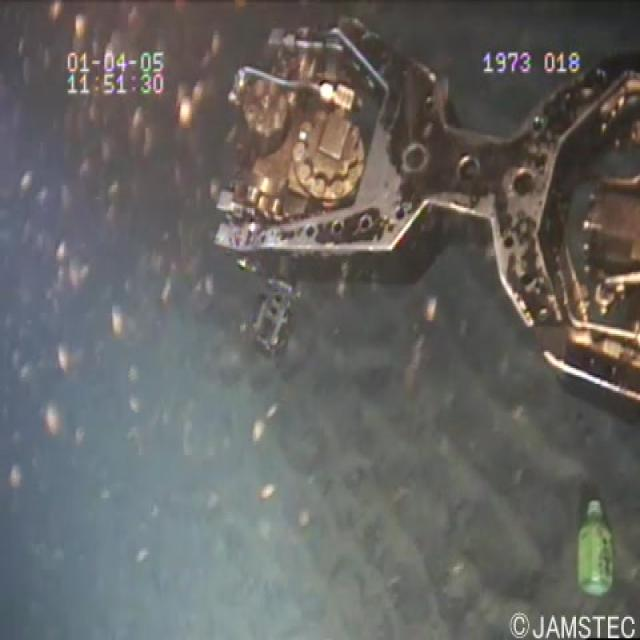plastic: (571, 492, 617, 598)
